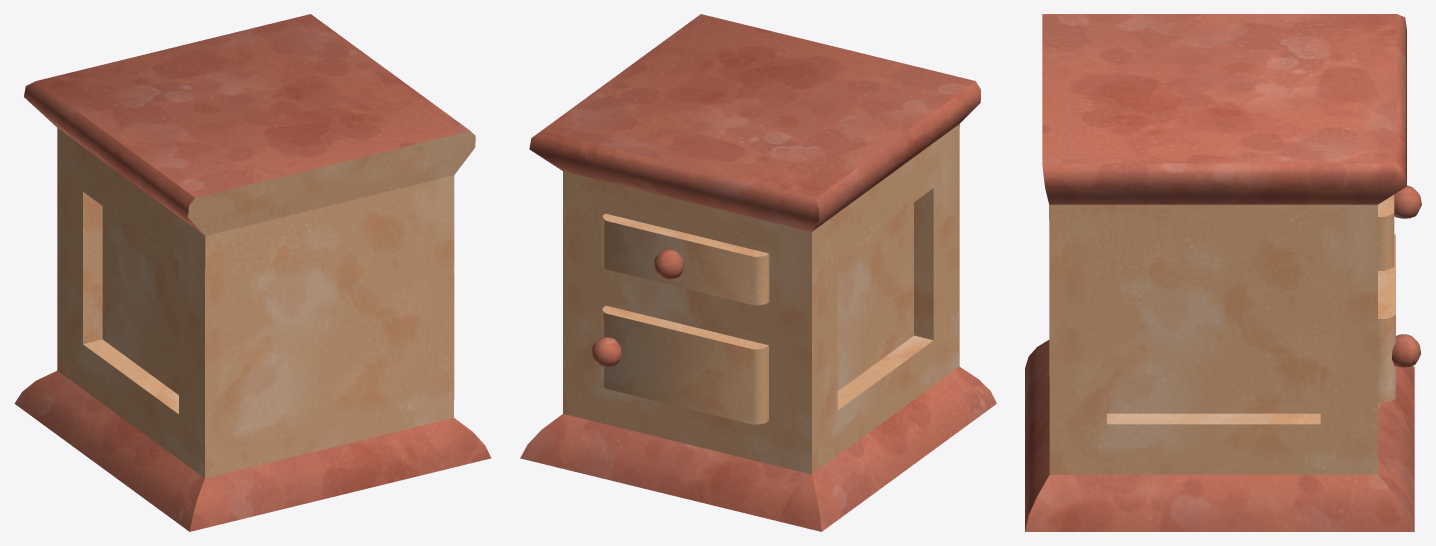
The model's file is SM_Little_Dresser_01 2.fbx.
3 views of the same model, side by side, from view 1: azimuth 30°, elevation 25°; view 2: azimuth 150°, elevation 25°; view 3: azimuth 270°, elevation 25° (orthographic). The views are drawn at different scales.
Parts seen in each view (by area): view 1: SM_Little_Dresser; view 2: SM_Little_Dresser; view 3: SM_Little_Dresser.
Boxes of the visible parts, x1,y1,x2,y2 form: SM_Little_Dresser: (14,14,490,531); SM_Little_Dresser: (520,14,996,531); SM_Little_Dresser: (1025,14,1421,531).
Bounding box in the file's own units: 96.77 × 99.64 × 99.15.
